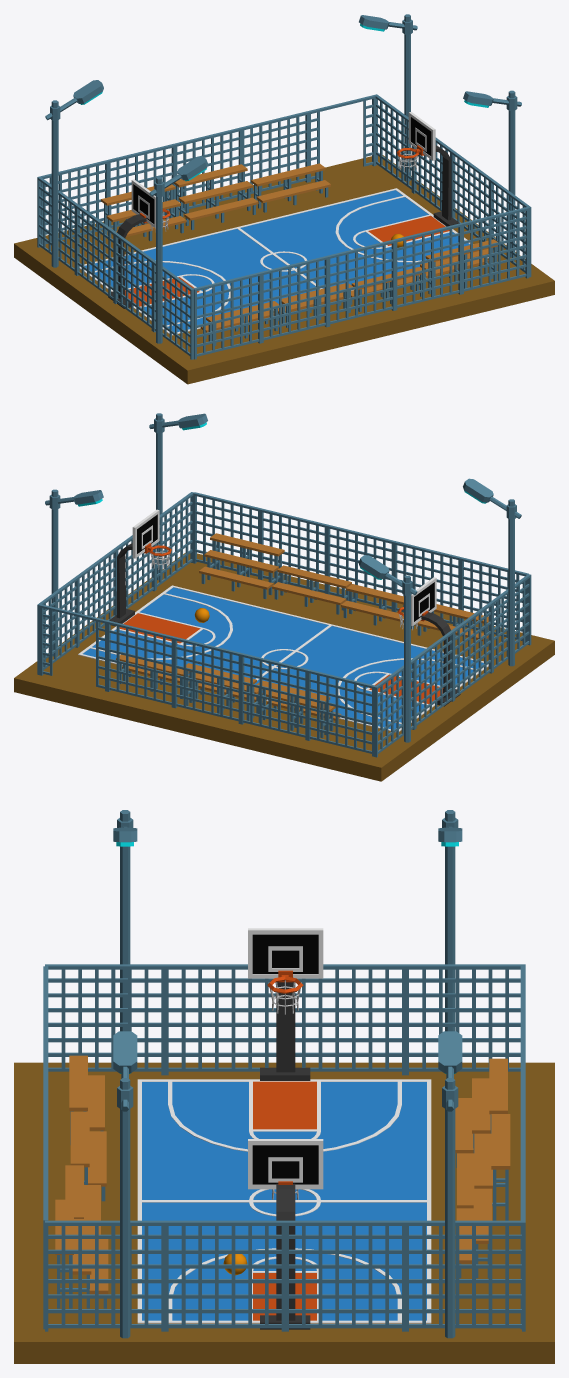
The model's file is court.glb.
3 views of the same model, one above another, from view 1: azimuth 30°, elevation 25°; view 2: azimuth 150°, elevation 25°; view 3: azimuth 270°, elevation 25° (orthographic). The views are drawn at different scales.
Parts seen in each view (by area): view 1: Box14890, Plane1292, Object283, Box15534, Box15533, Box15535, Box14954, Box15536, Rectangle004, Box15541, Box14969, Box15548 (+22 smaller); view 2: Box14890, Plane1292, Object283, Box15540, Box15539, Box15541, Box15538, Rectangle004, Box15553, Box15535, Box15534, Box15536 (+22 smaller); view 3: Box14890, Plane1292, Object283, Rectangle004, Box15543, Box15544, Box15545, Box15542, Box15546, Box15547, Box15548, Box15549 (+12 smaller).
Part boxes in pixels (box(x1,y1,x2,y2)): Box14890: box(14, 155, 554, 384); Plane1292: box(84, 190, 469, 331); Object283: box(108, 112, 459, 308); Box15534: box(327, 239, 395, 326); Box15533: box(260, 256, 328, 342); Box15535: box(394, 223, 461, 310); Box14954: box(193, 272, 261, 359); Box15536: box(461, 207, 528, 294); Rectangle004: box(79, 188, 488, 335); Box15541: box(241, 111, 308, 195); Box14969: box(173, 164, 258, 230); Box15548: box(75, 204, 116, 302); Box14890: box(14, 553, 554, 781); Plane1292: box(83, 587, 483, 729); Object283: box(109, 509, 460, 706); Box15540: box(173, 637, 241, 723); Box15539: box(240, 653, 308, 740); Box15541: box(107, 620, 174, 707); Box15538: box(307, 669, 375, 756); Rectangle004: box(78, 585, 488, 732); Box15553: box(199, 533, 284, 599); Box15535: box(260, 508, 327, 593); Box15534: box(326, 524, 394, 611); Box15536: box(193, 492, 261, 579); Box14890: box(14, 1062, 554, 1363); Plane1292: box(142, 1082, 426, 1320); Object283: box(248, 928, 323, 1329); Rectangle004: box(137, 1079, 431, 1323); Box15543: box(165, 1220, 285, 1331); Box15544: box(285, 1220, 405, 1331); Box15545: box(405, 1220, 525, 1331); Box15542: box(45, 1220, 164, 1331); Box15546: box(45, 964, 164, 1075); Box15547: box(165, 964, 276, 1075); Box15548: box(295, 964, 405, 1075); Box15549: box(405, 964, 525, 1075).
Bounding box in the file's own units: 11.11 × 5.38 × 9.
